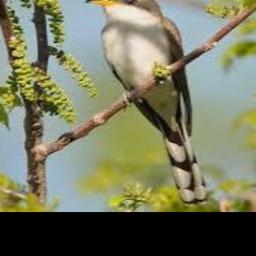Cuckoo: (84, 0, 211, 206)
